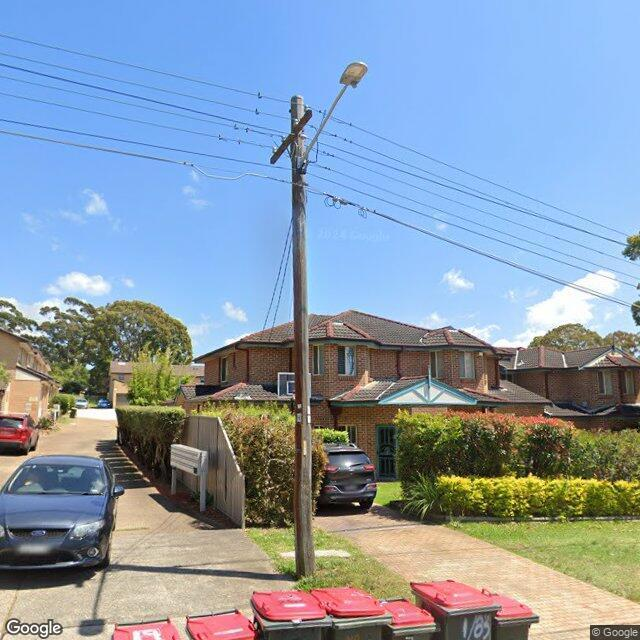crossarm: (269, 110, 313, 164)
streetlight: (296, 62, 368, 174)
timber-pole: (291, 95, 316, 577)
